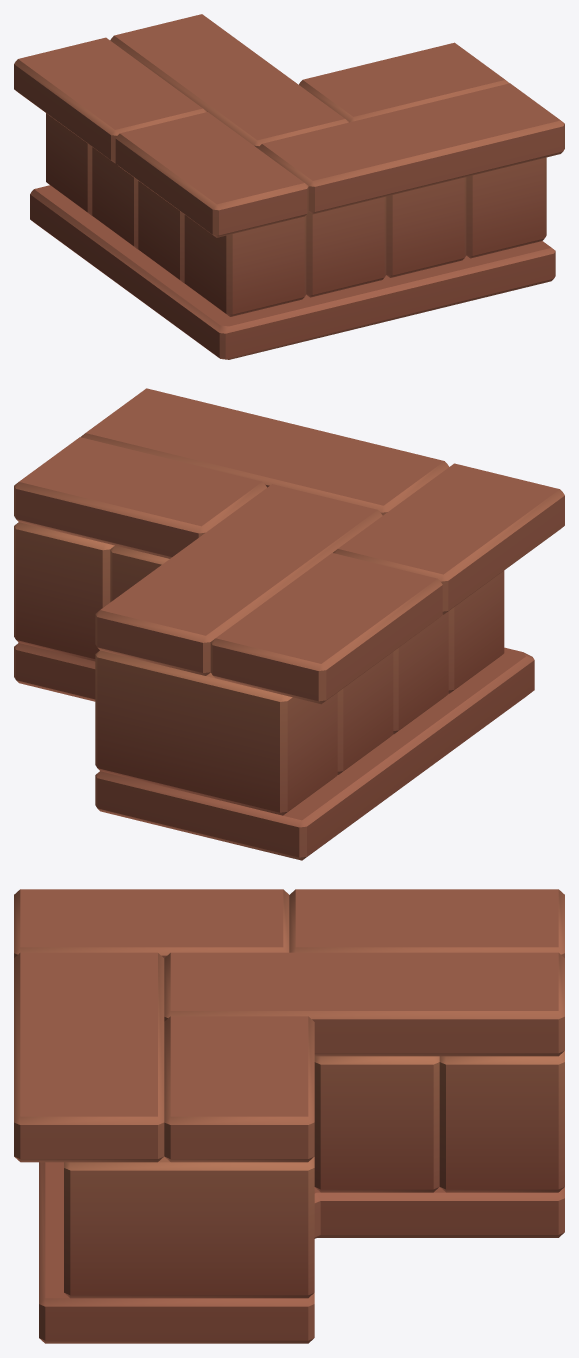
The model's file is bar_outercorner.glb.
3 views of the same model, one above another, from view 1: azimuth 30°, elevation 25°; view 2: azimuth 150°, elevation 25°; view 3: azimuth 270°, elevation 25° (orthographic). The views are drawn at different scales.
Visible parts, largest first — view 1: bar_outercorner; view 2: bar_outercorner; view 3: bar_outercorner.
Part boxes in pixels (left/top/right/bottom): bar_outercorner: left=14, top=14, right=564, bottom=359; bar_outercorner: left=14, top=388, right=564, bottom=860; bar_outercorner: left=14, top=889, right=564, bottom=1343.
Size of the model in its own units: 2.2 by 1 by 2.2.
1 material, 1 textured.
